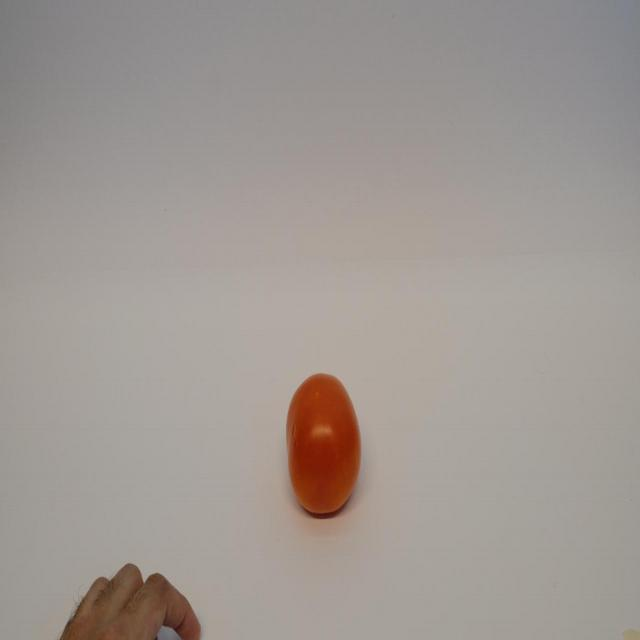tomato: (284, 366, 365, 525)
